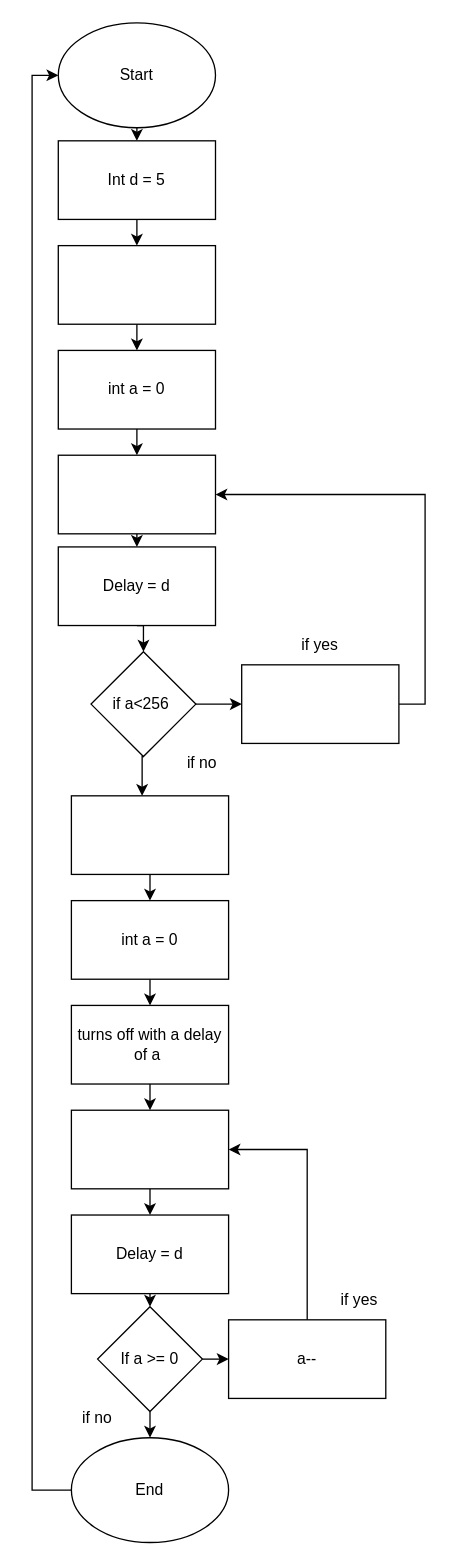
Image size: 458x1565. Some labels were removed from this diagram. The shapes that lost their labels are listed below. From the top down, each one's box as (x1, y1, x2, y2) in pixels, then its label:
(57, 244, 215, 324): pin3 output
(57, 454, 215, 534): Pin 3turns on with the delay of a
(240, 664, 399, 743): a++
(70, 795, 229, 874): int a = 255
(70, 1109, 229, 1189): pin 3 turns off with the delay of a
